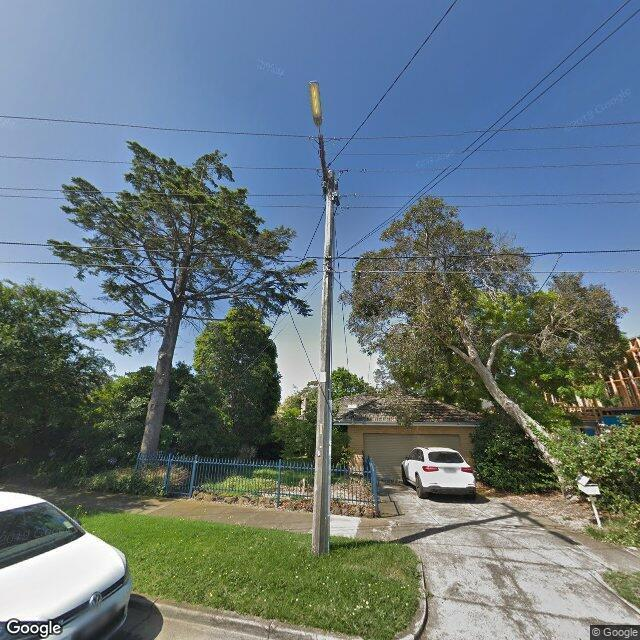crossarm: (318, 134, 328, 199)
streetlight: (308, 80, 323, 134)
timber-pole: (311, 169, 335, 558)
